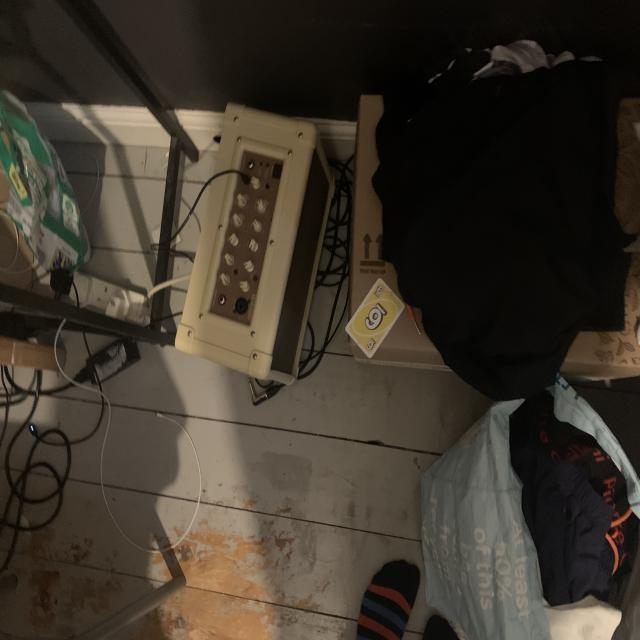lyellow-6: (373, 284, 386, 298)
